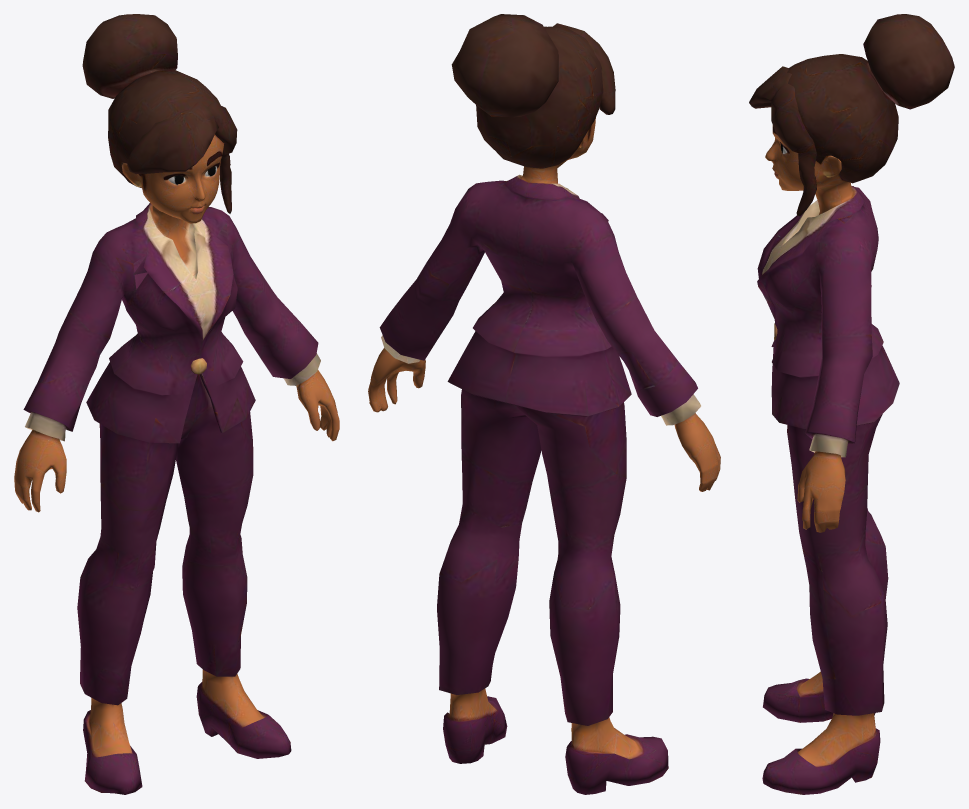
File: Plum_Executive.glb
3 views of the same model, side by side, from view 1: azimuth 30°, elevation 25°; view 2: azimuth 150°, elevation 25°; view 3: azimuth 270°, elevation 25° (orthographic). The views are drawn at different scales.
Visible parts, largest first — view 1: geometry_0; view 2: geometry_0; view 3: geometry_0.
Boxes of the visible parts, x1,y1,x2,y2 form: geometry_0: (14,14,339,794); geometry_0: (368,14,720,794); geometry_0: (749,14,954,794).
Size of the model in its own units: 0.4639 by 1 by 0.2579.
1 material, 1 textured.
